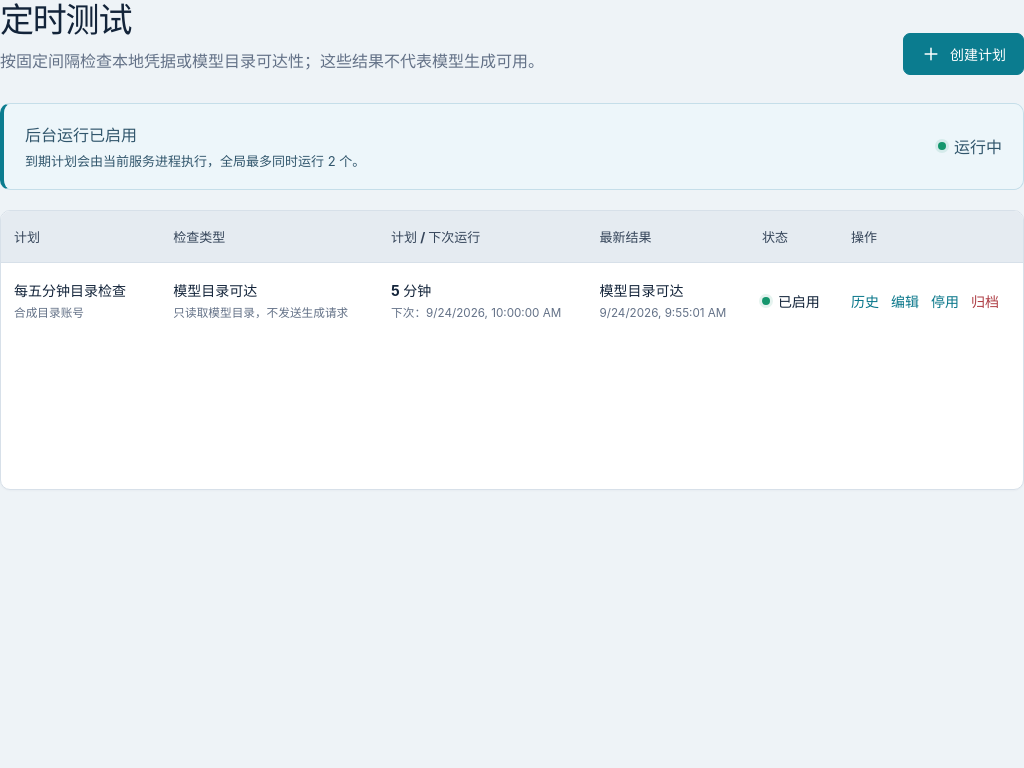
Scenario: scheduled tests page › creates a disabled credential plan with CSRF and bounded fixed interval
Click the button "创建计划" at {"x": 964, "y": 54}, box [903, 32, 1023, 74]
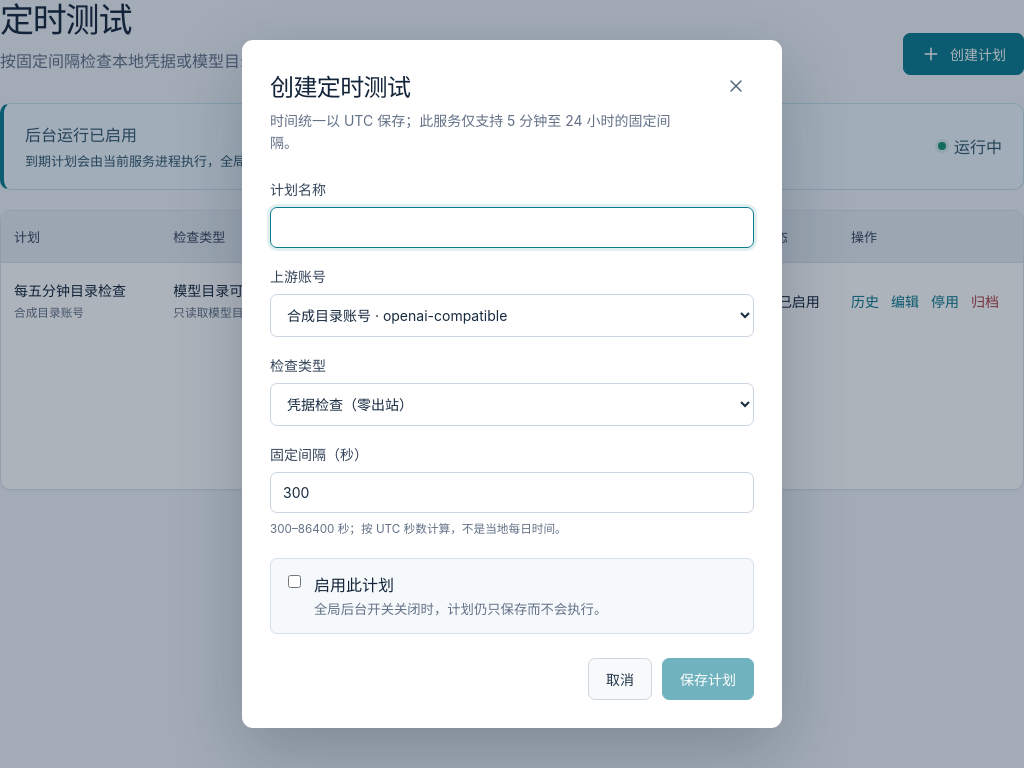
Type "凭据轮询" into the field labelled "计划名称" at {"x": 512, "y": 227}, box [270, 207, 754, 248]
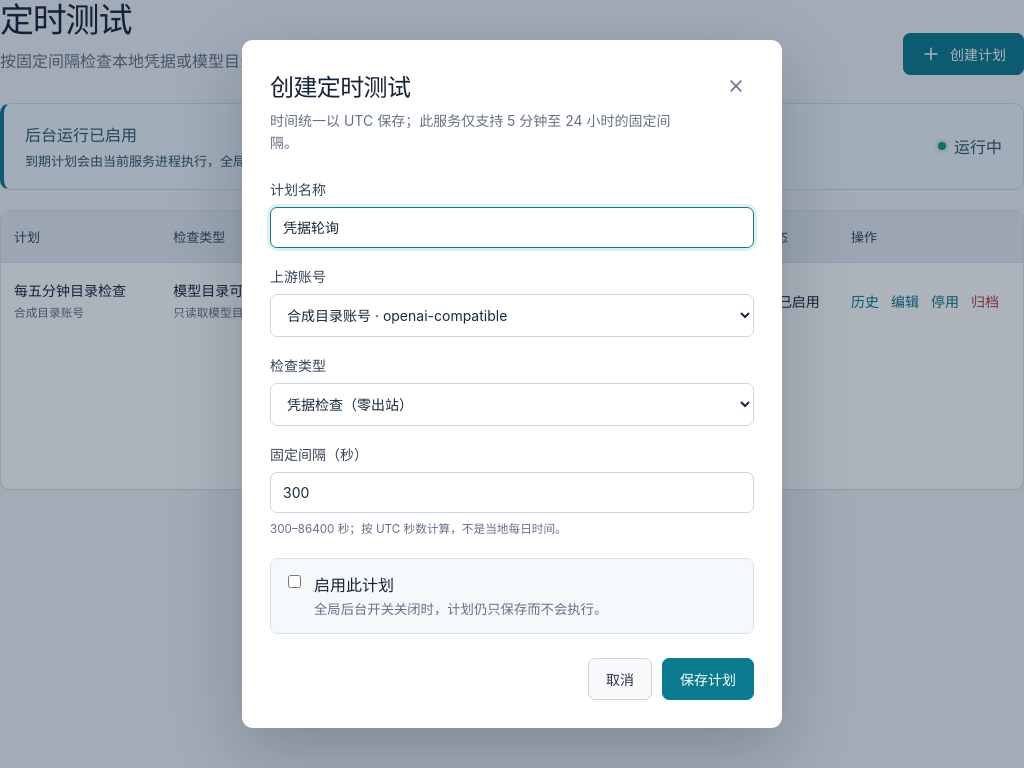
Replace the text in the number field labelled "固定间隔（秒）" with "600" at {"x": 512, "y": 492}, box [270, 472, 754, 513]
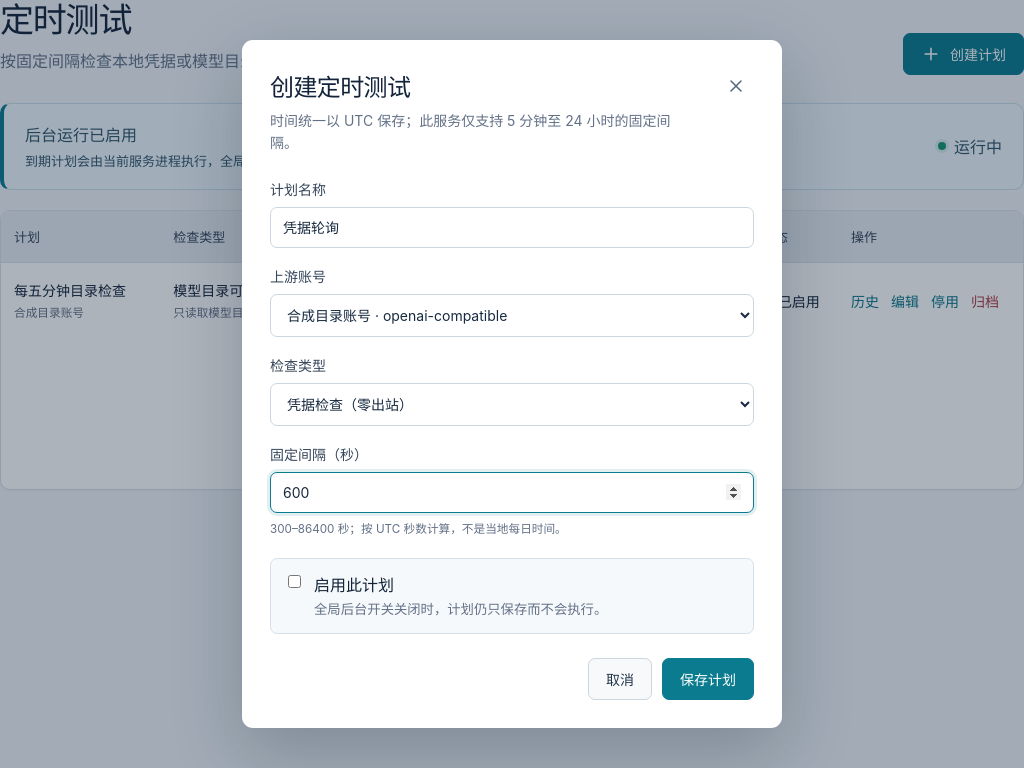
Click the button "保存计划" at {"x": 708, "y": 679}, box [662, 658, 754, 700]
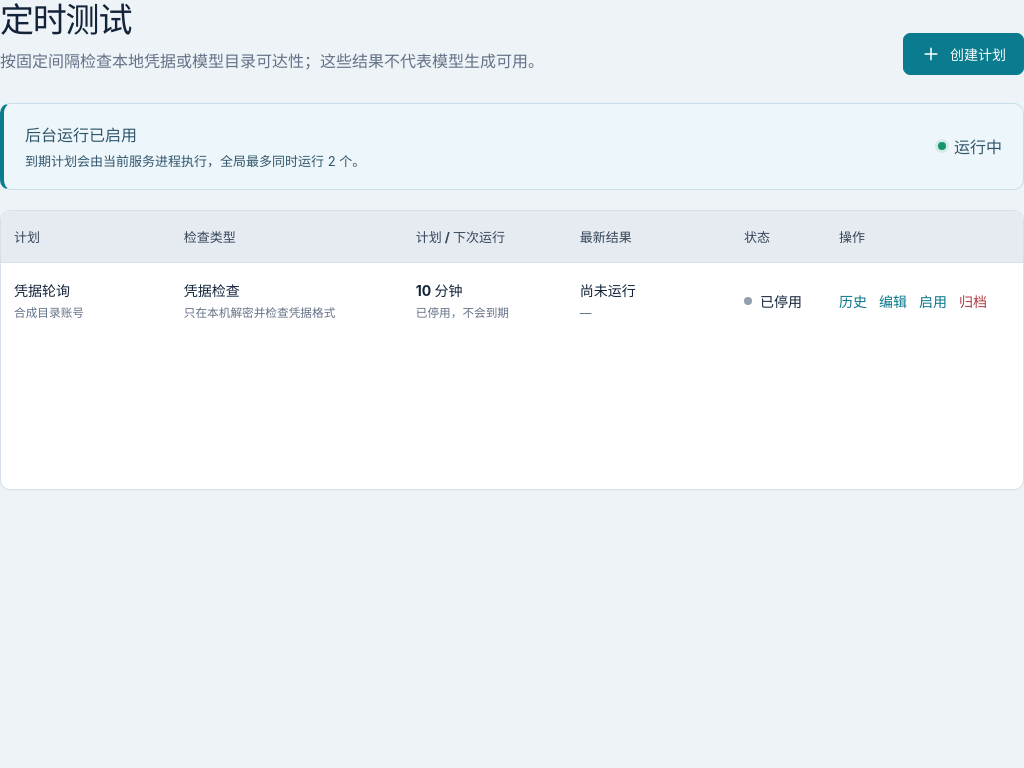
Now the text "凭据轮询" is shown, box [14, 282, 70, 299]
